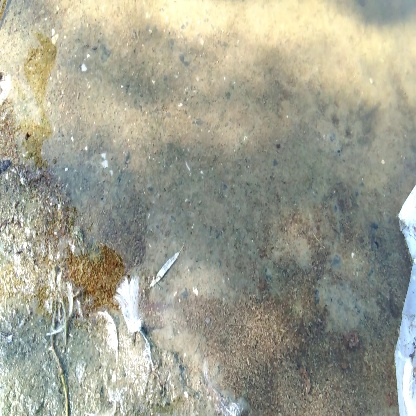plastic-bag: (389, 181, 415, 412)
